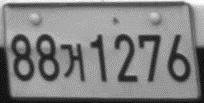1: (89, 33, 108, 83)
2: (113, 33, 138, 83)
6: (166, 33, 190, 82)
7: (137, 33, 160, 82)
8: (10, 33, 34, 81), (35, 33, 59, 81)
거: (59, 43, 85, 81)
